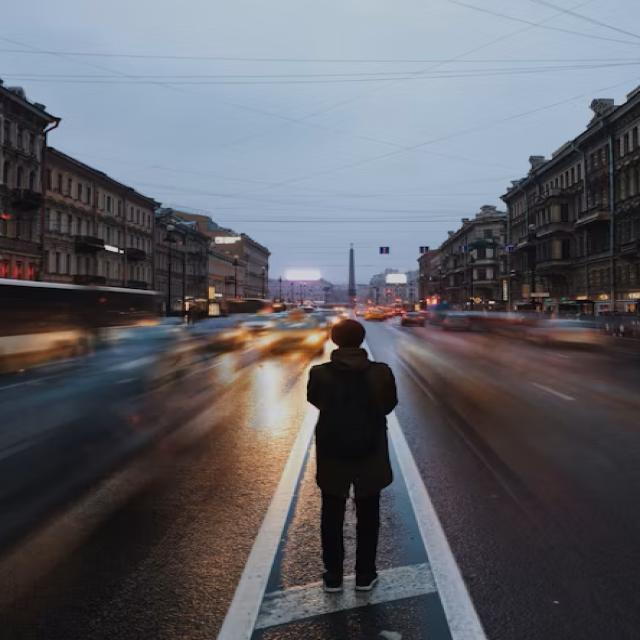Edited images: (292, 308, 428, 608)
